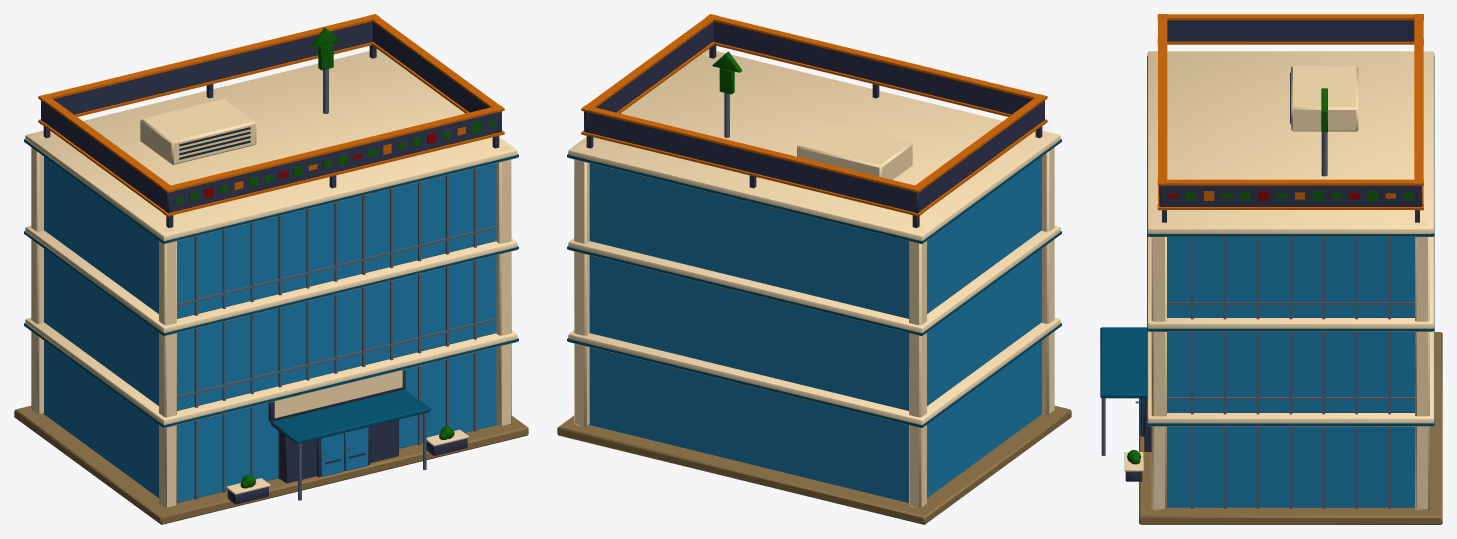
The model's file is TradingFloor.obj.
3 views of the same model, side by side, from view 1: azimuth 30°, elevation 25°; view 2: azimuth 150°, elevation 25°; view 3: azimuth 270°, elevation 25° (orthographic). The views are drawn at different scales.
Parts seen in each view (by area): view 1: TradingFloor; view 2: TradingFloor; view 3: TradingFloor.
Boxes of the visible parts, box(x1,y1,x2,y2) form: TradingFloor: box(14, 14, 528, 524); TradingFloor: box(557, 14, 1071, 524); TradingFloor: box(1100, 14, 1442, 524).
Bounding box in the file's own units: 26 × 24.88 × 20.3.
